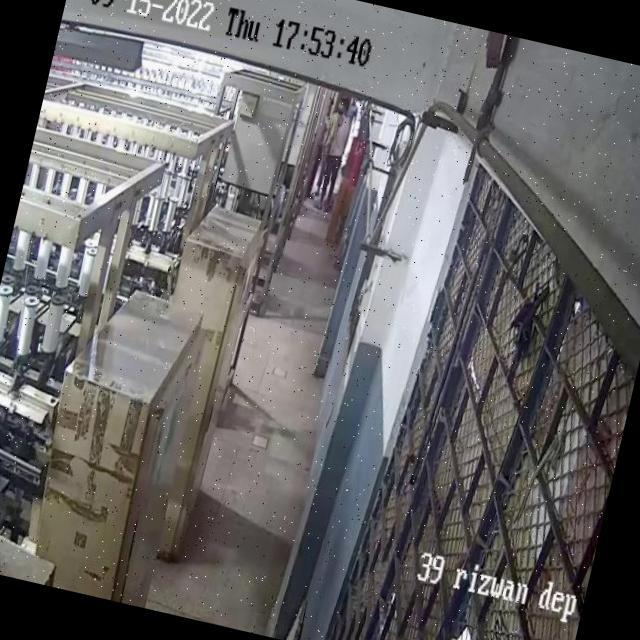person: (314, 93, 356, 208), (305, 98, 336, 201), (342, 93, 362, 146)
